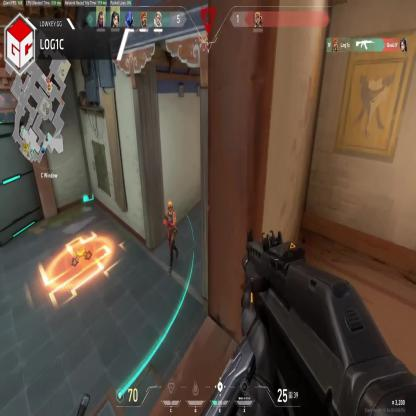enemy: (163, 202, 179, 274)
enemy_head: (167, 202, 173, 214)
